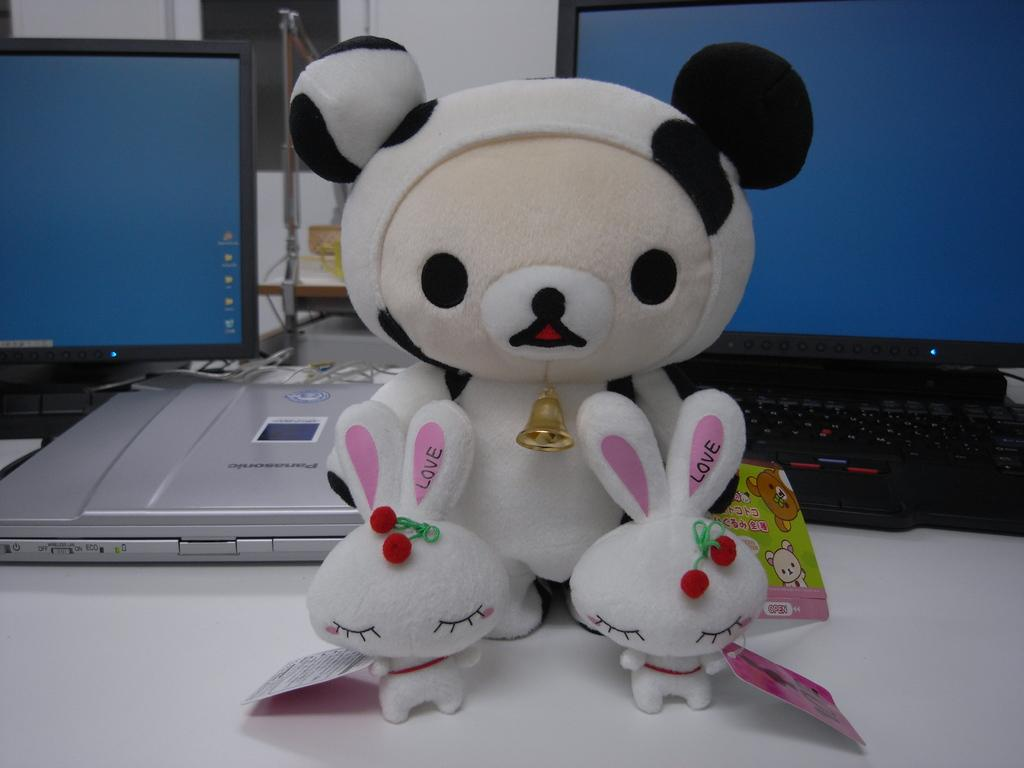Computer-monitor: (2, 34, 261, 383)
Laptop: (554, 0, 1022, 536)
